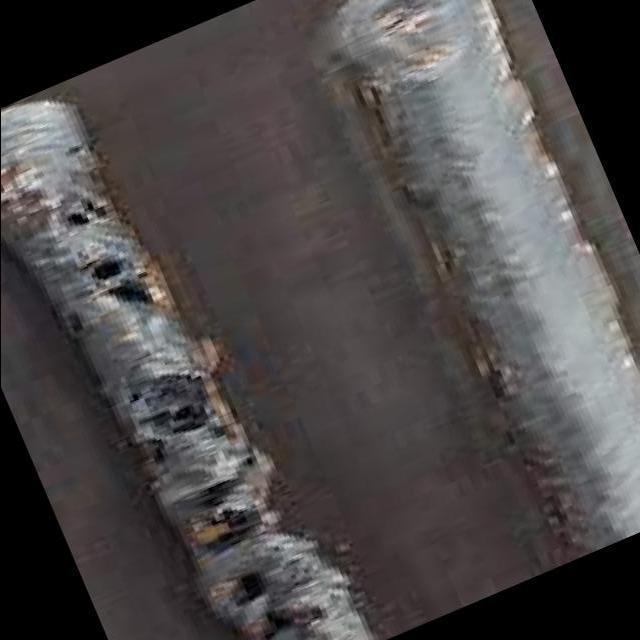defect: (193, 476, 268, 547), (78, 249, 158, 313), (256, 599, 335, 640), (119, 404, 215, 436), (226, 572, 279, 607), (59, 195, 113, 228), (119, 380, 186, 405), (240, 450, 265, 471), (65, 138, 92, 156)
